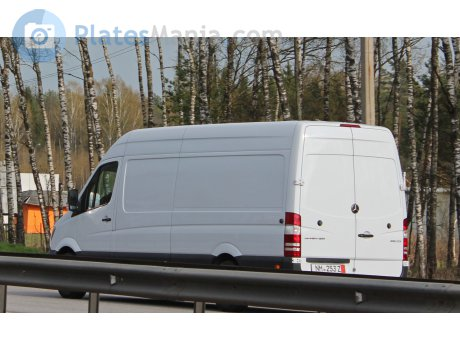License Plates: (317, 262, 344, 277)
